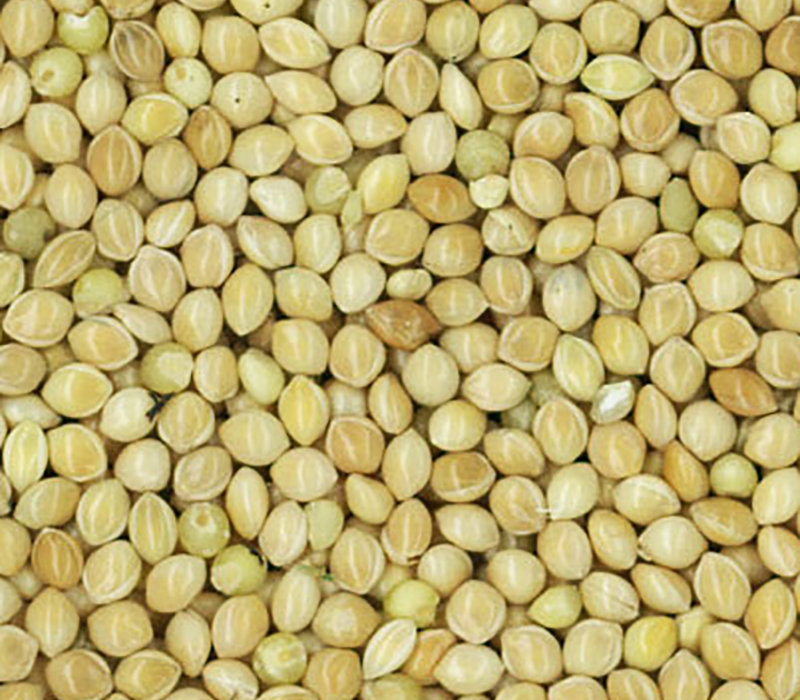seed: (2, 1, 799, 700)
